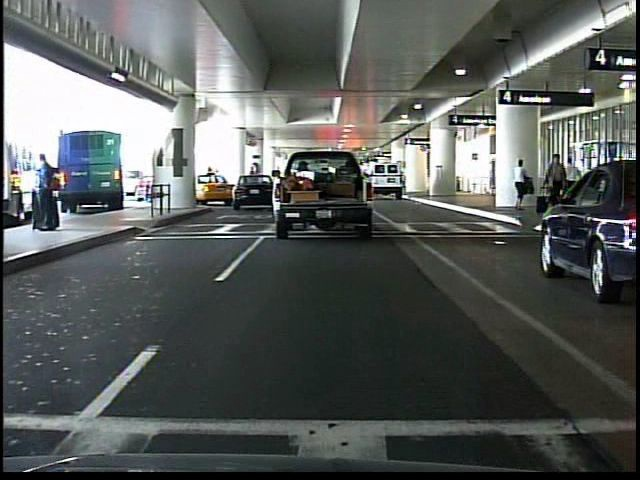person: (30, 143, 66, 238), (545, 148, 571, 201), (561, 155, 583, 216), (509, 155, 532, 212)
